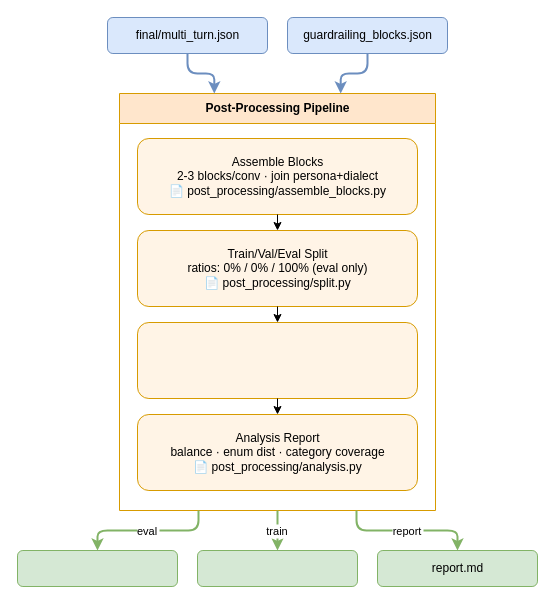
Some shapes in this 555 by 604 pixel diagram are drawn without their labels. Each missing label, with the centre of its shape:
"output/eval.json" goes at point 97,568.
"output/train.json" goes at point 277,568.
"Rebalance tool:text ratio · max contamination 20% 📄 post_processing/rebalance.py" goes at point 277,360.
